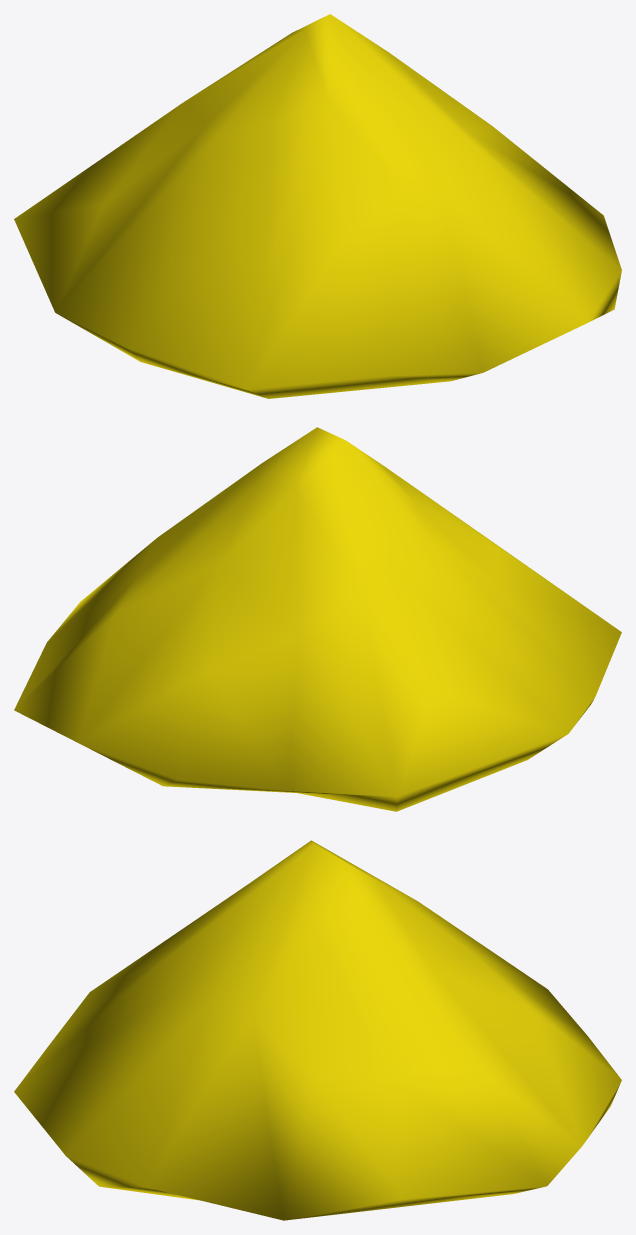
The model's file is Shell_02.fbx.
The picture shows the model from 3 angles, top to bottom: view 1: azimuth 30°, elevation 25°; view 2: azimuth 150°, elevation 25°; view 3: azimuth 270°, elevation 25°; orthographic projection.
Parts seen in each view (by area): view 1: Shell_02; view 2: Shell_02; view 3: Shell_02.
Boxes of the visible parts, x1=… form: Shell_02: x1=14, y1=14, x2=621, y2=398; Shell_02: x1=14, y1=427, x2=621, y2=811; Shell_02: x1=14, y1=840, x2=621, y2=1220.
Bounding box in the file's own units: 41.17 × 19.72 × 41.76.
